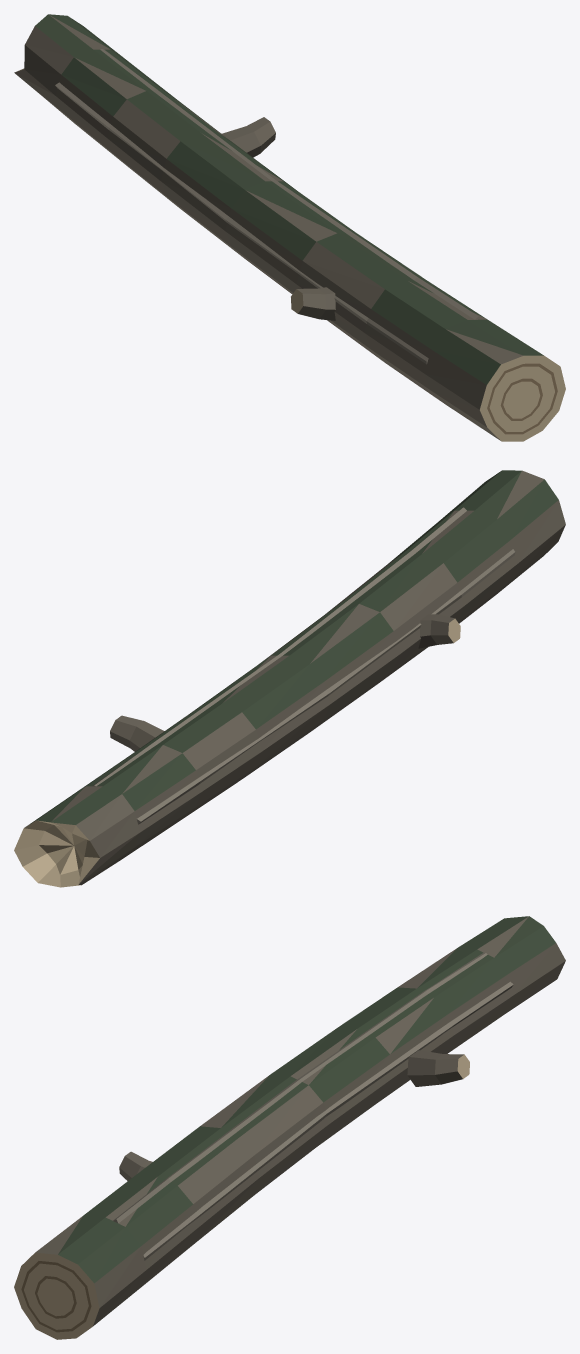
File: river-log.fbx
The picture shows the model from 3 angles, top to bottom: view 1: azimuth 30°, elevation 25°; view 2: azimuth 150°, elevation 25°; view 3: azimuth 330°, elevation 25°; orthographic projection.
Parts seen in each view (by area): view 1: Log; view 2: Log; view 3: Log.
Part boxes in pixels (box(x1,y1,x2,y2)): Log: box(14, 14, 565, 441); Log: box(14, 470, 565, 887); Log: box(14, 916, 565, 1339).
Size of the model in its own units: 0.887 by 0.45 by 4.54.
